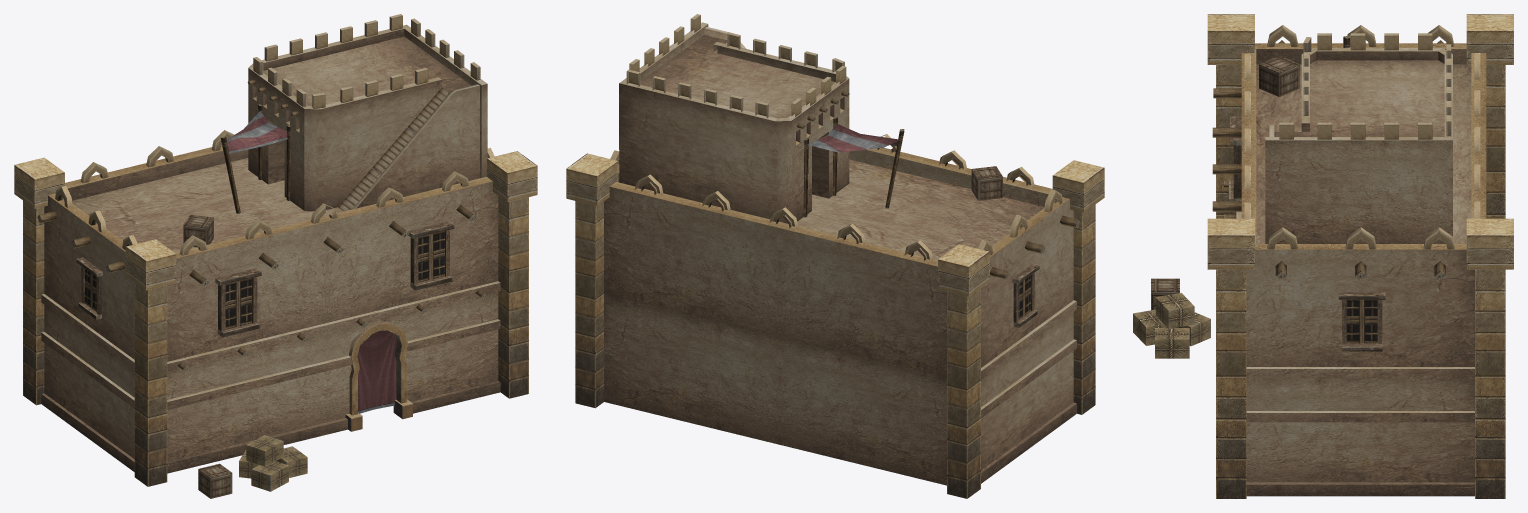
Rendered from SC_tamalagebi_20.FBX.
3 renders of one model, left to right at view 1: azimuth 30°, elevation 25°; view 2: azimuth 150°, elevation 25°; view 3: azimuth 270°, elevation 25°, orthographic. The views are drawn at different scales.
Visible parts, largest first — view 1: SC_tamalagebi_20; view 2: SC_tamalagebi_20; view 3: SC_tamalagebi_20.
Part boxes in pixels (left/top/right/bottom): SC_tamalagebi_20: left=14, top=14, right=537, bottom=498; SC_tamalagebi_20: left=566, top=14, right=1104, bottom=498; SC_tamalagebi_20: left=1133, top=14, right=1513, bottom=498.
Bounding box in the file's own units: 1060 × 779 × 742.
